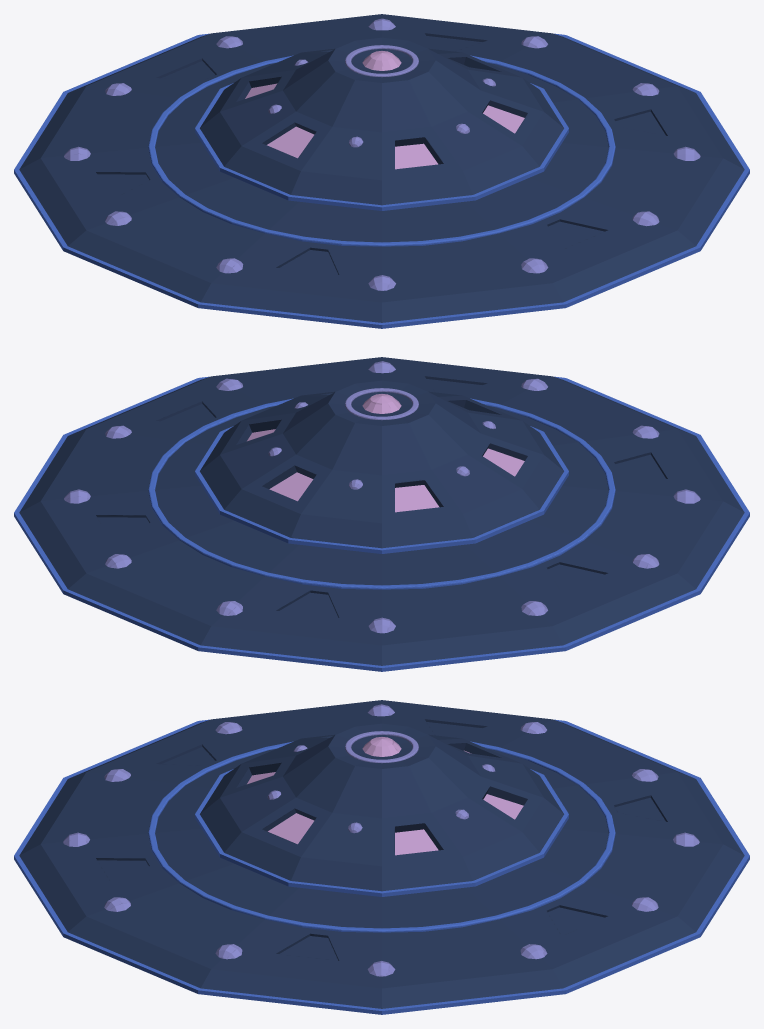
3 views of the same model, one above another, from view 1: azimuth 30°, elevation 25°; view 2: azimuth 150°, elevation 25°; view 3: azimuth 270°, elevation 25° (orthographic).
Parts seen in each view (by area): view 1: CUPIC_FYINGSAUCER; view 2: CUPIC_FYINGSAUCER; view 3: CUPIC_FYINGSAUCER.
Part boxes in pixels (box(x1,y1,x2,y2)): CUPIC_FYINGSAUCER: box(14, 14, 749, 328); CUPIC_FYINGSAUCER: box(14, 357, 749, 671); CUPIC_FYINGSAUCER: box(14, 700, 749, 1014).
Bounding box in the file's own units: 424 × 108 × 424.
Materials: 1 (1 with a texture image).
